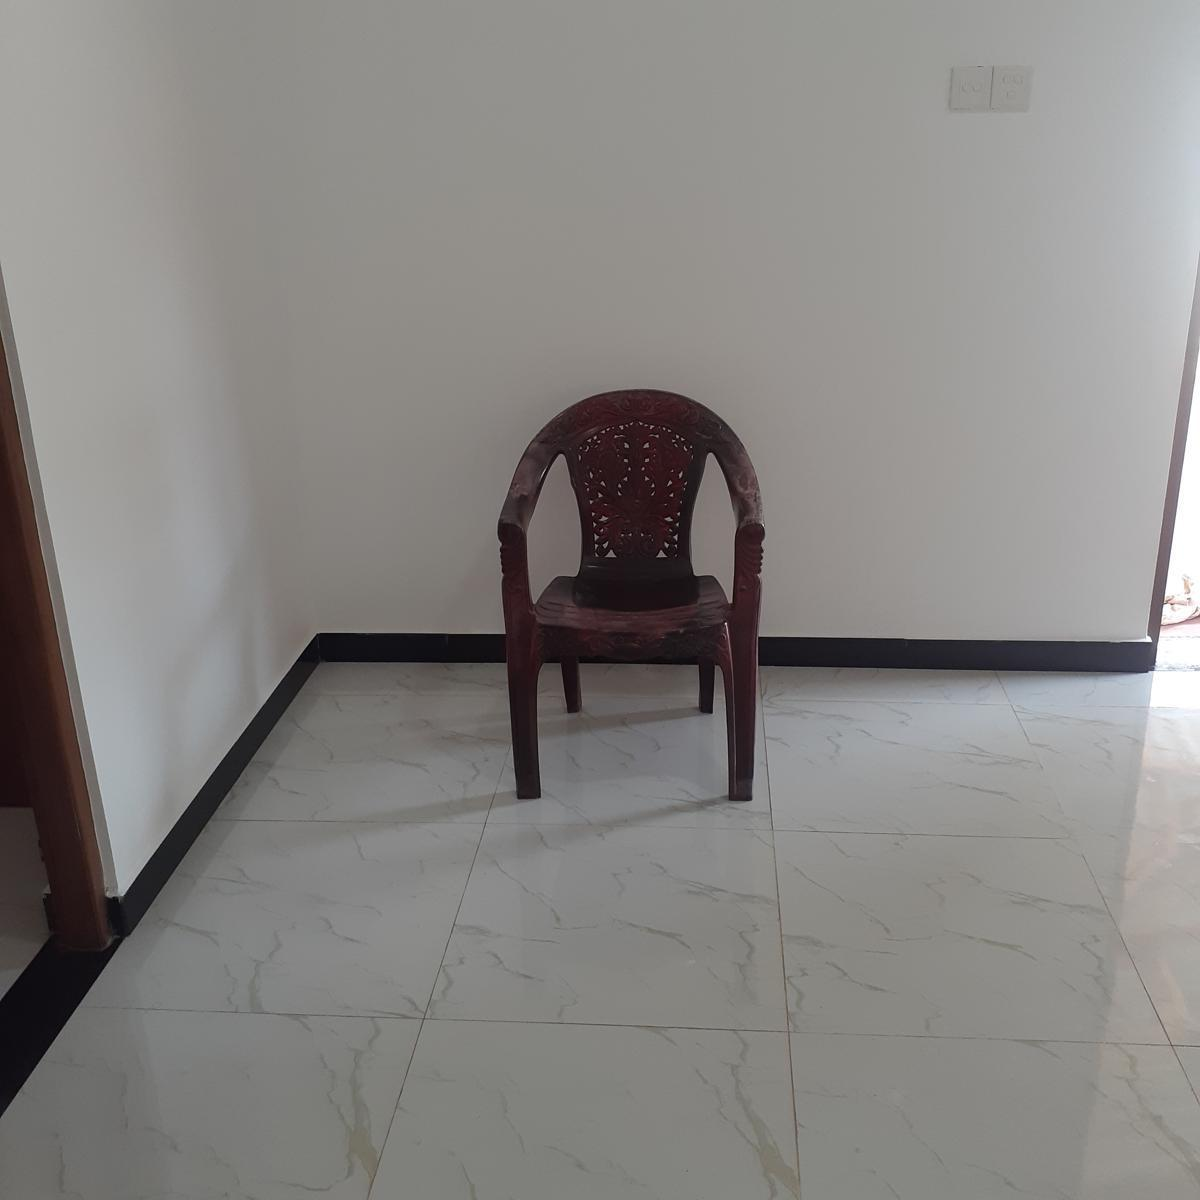Chair: (496, 387, 765, 808)
